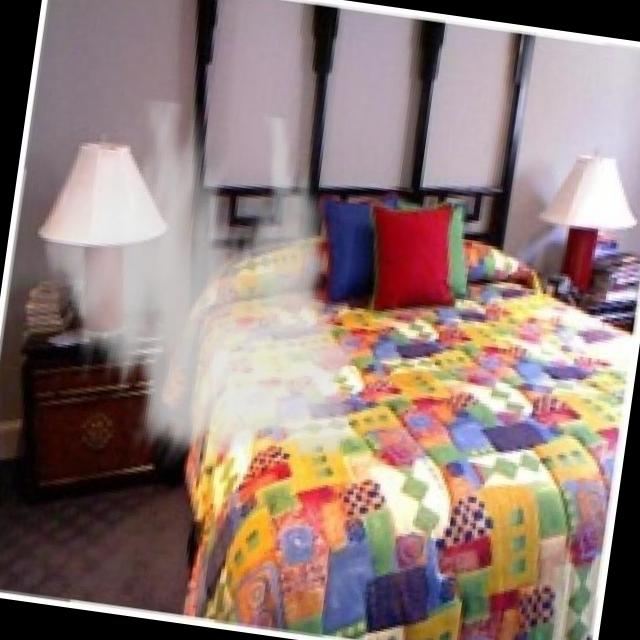Smoke: (5, 84, 413, 496)
